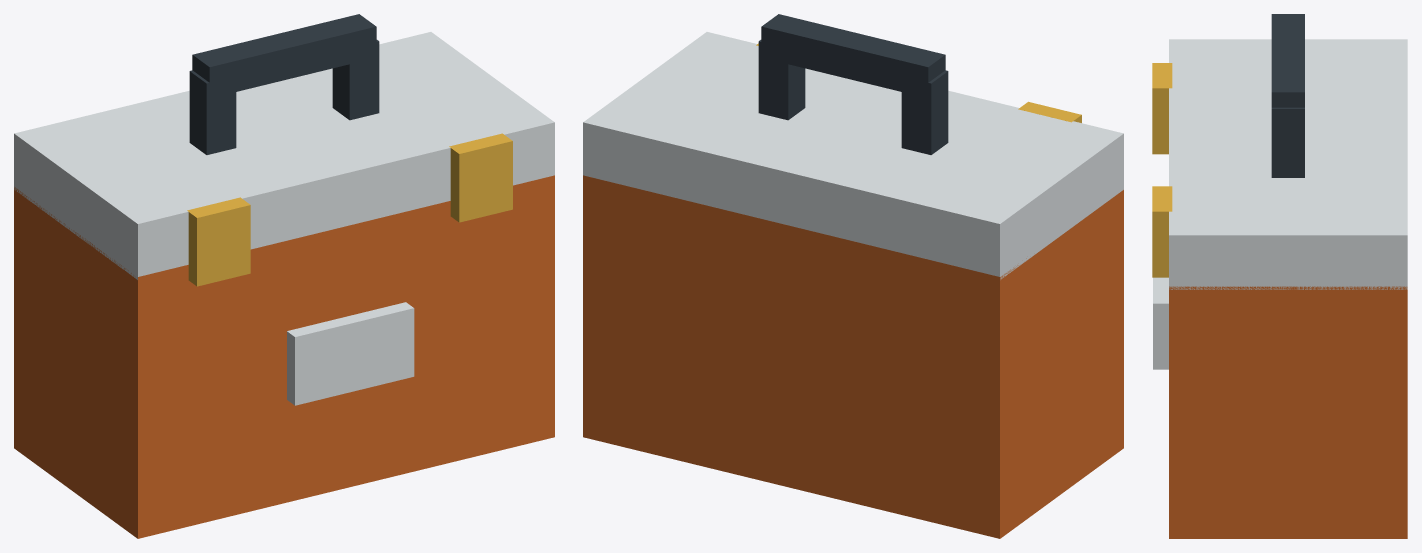
The model's file is perilune-field-sample-kit.glb.
3 views of the same model, side by side, from view 1: azimuth 30°, elevation 25°; view 2: azimuth 150°, elevation 25°; view 3: azimuth 270°, elevation 25° (orthographic). The views are drawn at different scales.
Visible parts, largest first — view 1: SM_Science_FieldKit_Case, SM_Science_FieldKit_Label, SM_Science_FieldKit_HandleL, SM_Science_FieldKit_Latch_L; view 2: SM_Science_FieldKit_Case, SM_Science_FieldKit_Label, SM_Science_FieldKit_HandleL; view 3: SM_Science_FieldKit_Case, SM_Science_FieldKit_Label, SM_Science_FieldKit_HandleL, SM_Science_FieldKit_Latch_L.
Boxes of the visible parts, x1=… form: SM_Science_FieldKit_Case: x1=14, y1=175, x2=554, y2=538; SM_Science_FieldKit_Label: x1=14, y1=32, x2=554, y2=405; SM_Science_FieldKit_HandleL: x1=189, y1=14, x2=379, y2=154; SM_Science_FieldKit_Latch_L: x1=187, y1=133, x2=512, y2=286; SM_Science_FieldKit_Case: x1=583, y1=175, x2=1123, y2=538; SM_Science_FieldKit_Label: x1=583, y1=32, x2=1123, y2=279; SM_Science_FieldKit_HandleL: x1=758, y1=14, x2=948, y2=154; SM_Science_FieldKit_Case: x1=1169, y1=286, x2=1407, y2=538; SM_Science_FieldKit_Label: x1=1153, y1=39, x2=1407, y2=369; SM_Science_FieldKit_HandleL: x1=1271, y1=14, x2=1304, y2=177; SM_Science_FieldKit_Latch_L: x1=1152, y1=63, x2=1172, y2=277.
Bounding box in the file's own units: 0.35 × 0.3225 × 0.1925.
